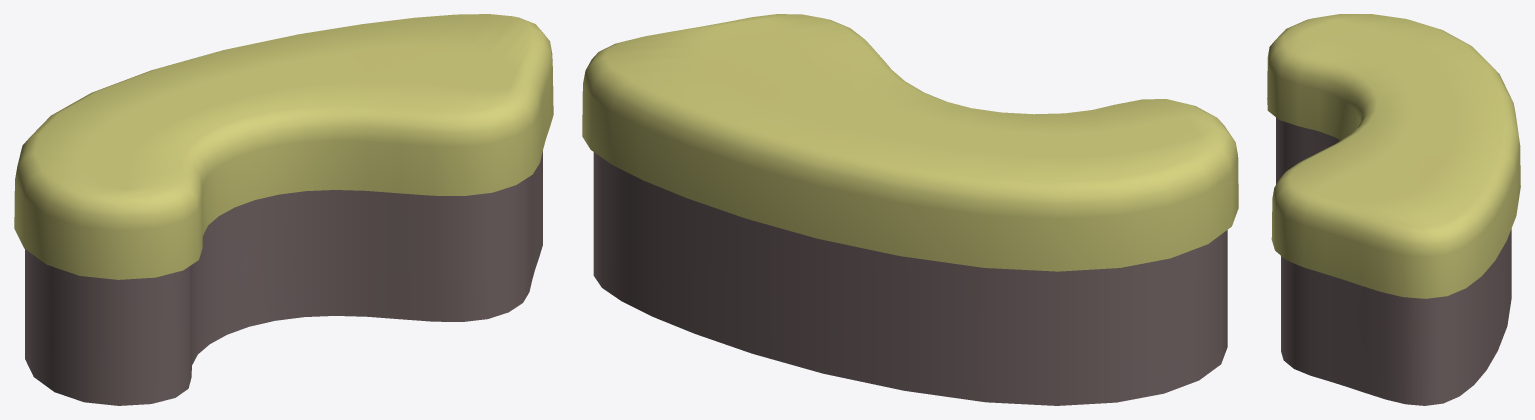
File: Mountains-01.fbx
The picture shows the model from 3 angles, left to right: view 1: azimuth 30°, elevation 25°; view 2: azimuth 150°, elevation 25°; view 3: azimuth 270°, elevation 25°; orthographic projection. The views are drawn at different scales.
Visible parts, largest first — view 1: Mountains-01; view 2: Mountains-01; view 3: Mountains-01.
Part boxes in pixels (bbox=[...]): Mountains-01: bbox=[14, 14, 553, 405]; Mountains-01: bbox=[582, 14, 1238, 405]; Mountains-01: bbox=[1267, 14, 1520, 405].
Bounding box in the file's own units: 76860 × 27502 × 36102.
